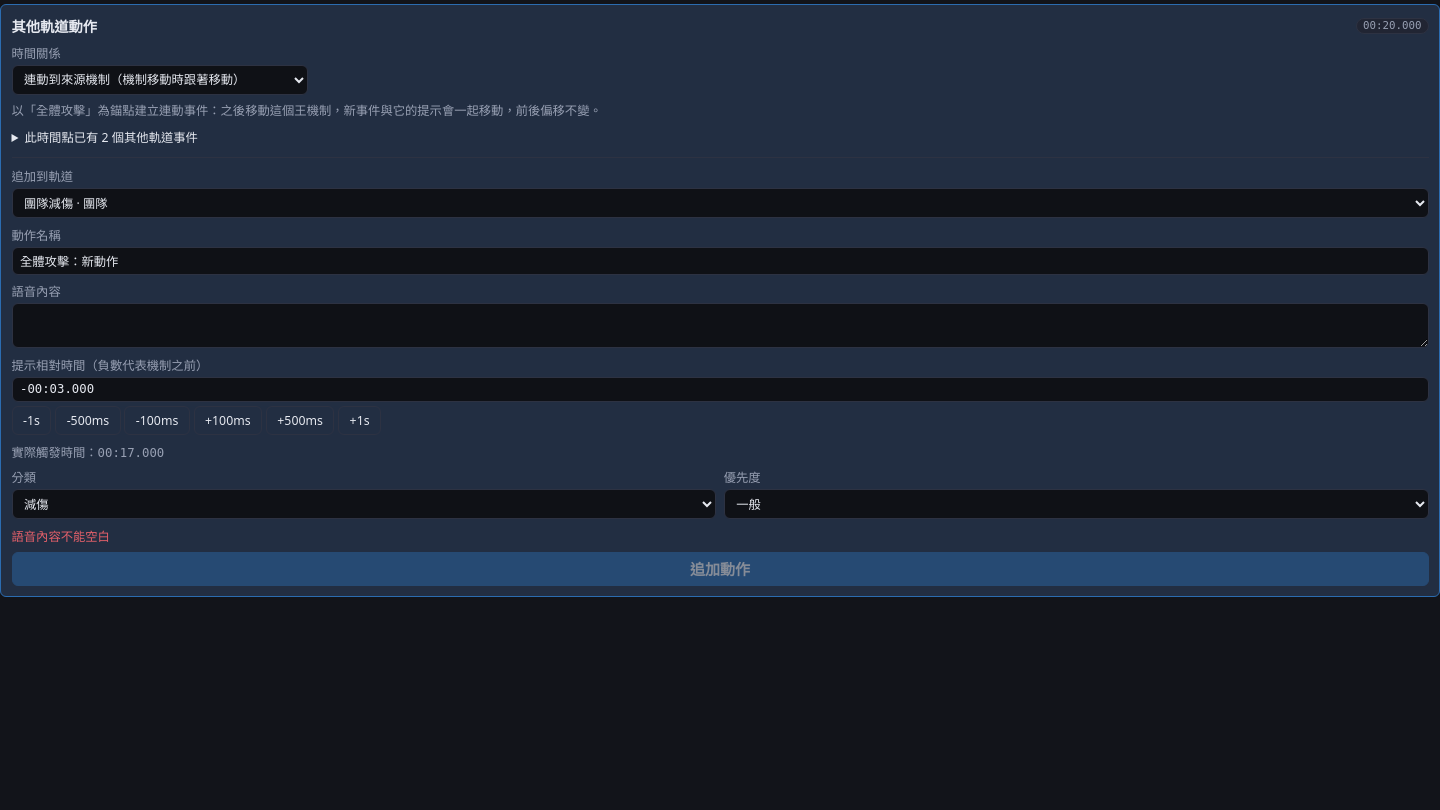
Test: MechanicActionPanel › shows exact collision context and requires the explicit warning action
In the text box labelled "語音內容": (720, 326) [12, 303, 1428, 348], type "放團減"
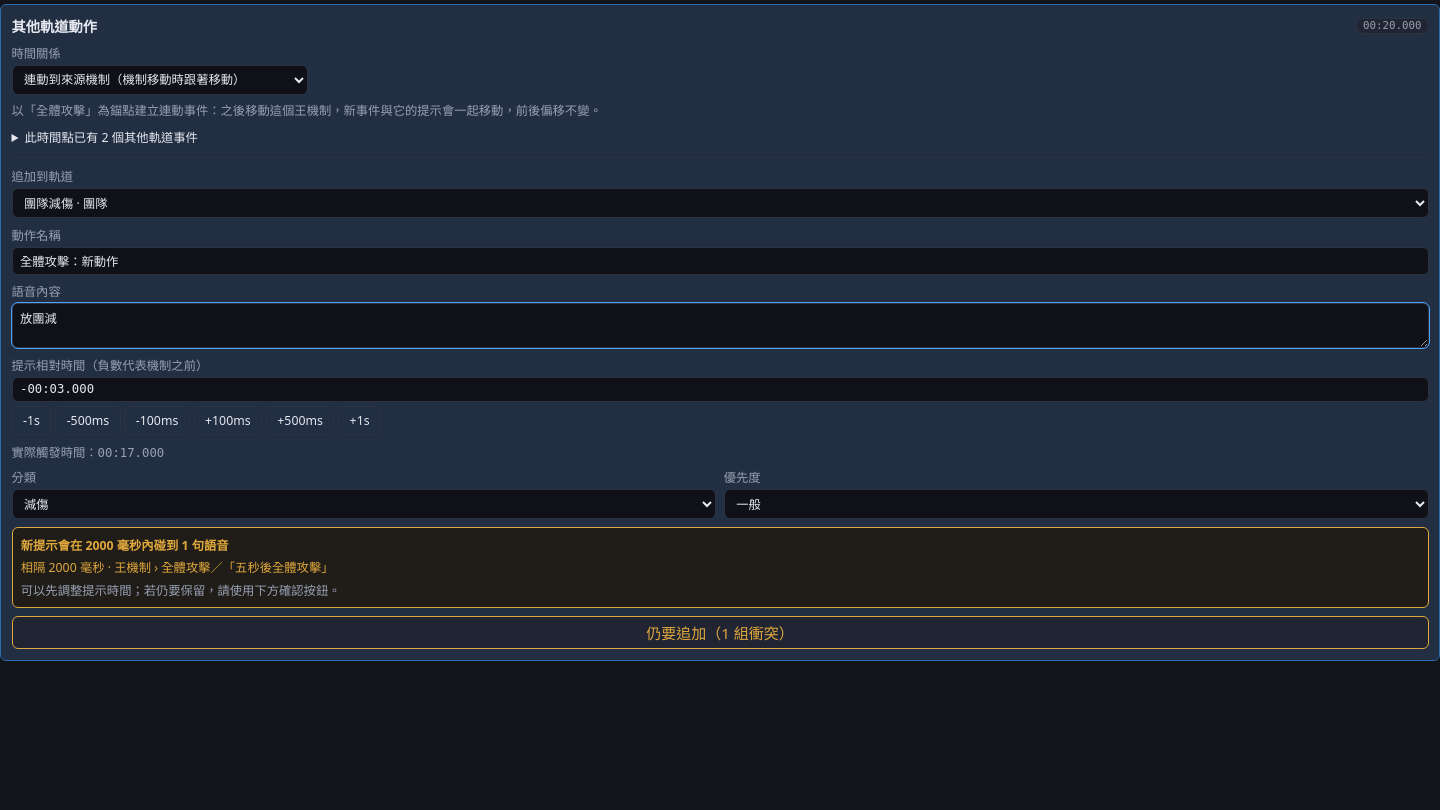
Expected: the message shows "相隔 2000 毫秒", [12, 527, 1428, 608]
Expected: the message shows "王機制 › 全體攻擊／「五秒後全體攻擊」", [12, 527, 1428, 608]
Expected: the button "仍要追加（1 組衝突）" is shown, [12, 616, 1428, 649]
